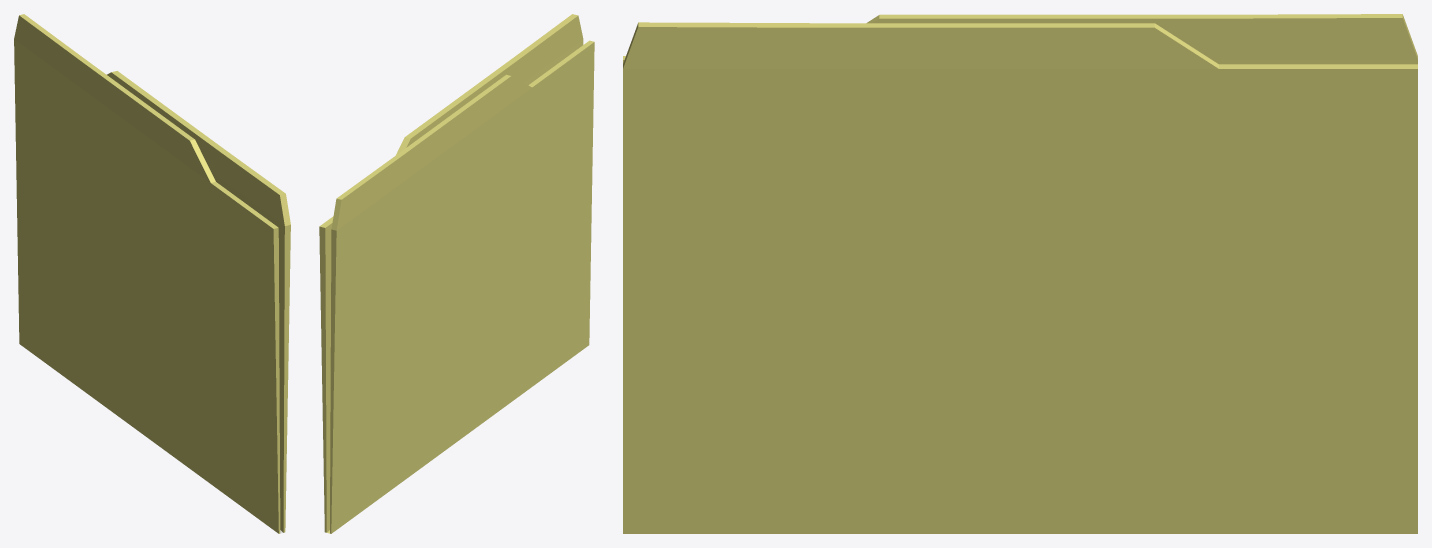
The model's file is folder.fbx.
3 renders of one model, left to right at view 1: azimuth 30°, elevation 25°; view 2: azimuth 150°, elevation 25°; view 3: azimuth 270°, elevation 25°, orthographic. The views are drawn at different scales.
Visible parts, largest first — view 1: Cube; view 2: Cube; view 3: Cube.
Part boxes in pixels (x1,y1,x2,y2): Cube: (14, 14, 290, 533); Cube: (319, 14, 594, 533); Cube: (623, 14, 1417, 533).
Size of the model in its own units: 13.86 by 254 by 358.
